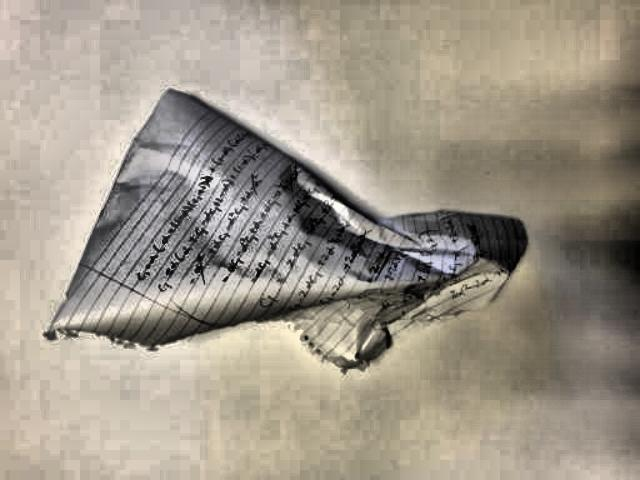Paper: (43, 87, 527, 372)
